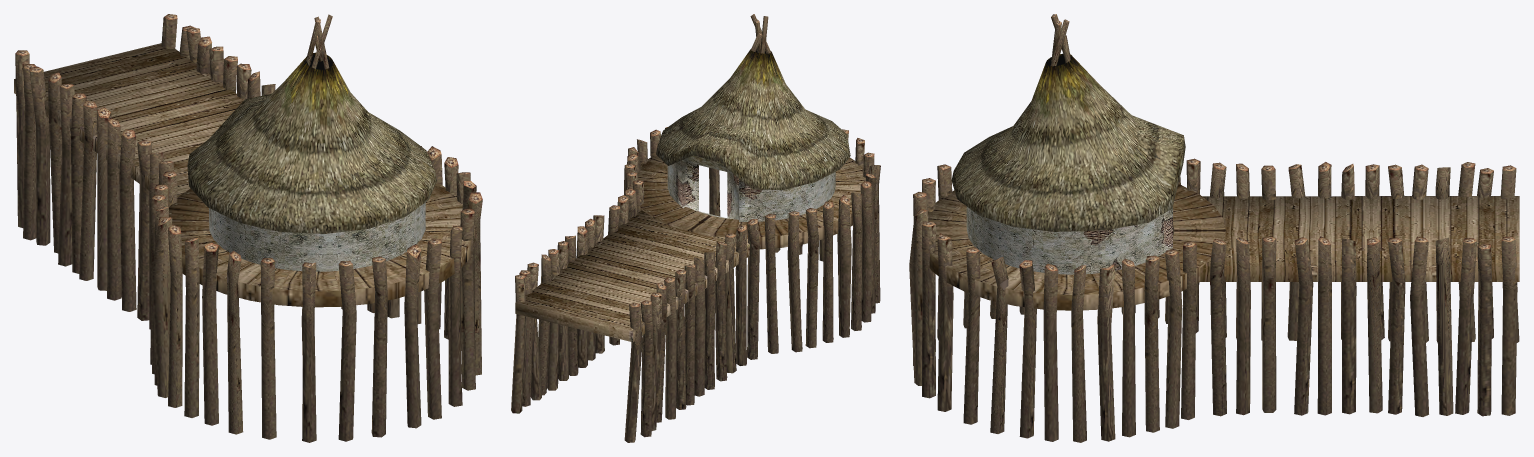
The model's file is celt_dock.dae.
3 renders of one model, left to right at view 1: azimuth 30°, elevation 25°; view 2: azimuth 150°, elevation 25°; view 3: azimuth 270°, elevation 25°, orthographic. The views are drawn at different scales.
Visible parts, largest first — view 1: default08; view 2: default08; view 3: default08.
Part boxes in pixels (bbox=[...]): default08: bbox=[14, 14, 482, 442]; default08: bbox=[511, 14, 880, 442]; default08: bbox=[909, 14, 1519, 442].
Size of the model in its own units: 12.62 by 23.38 by 15.13.
